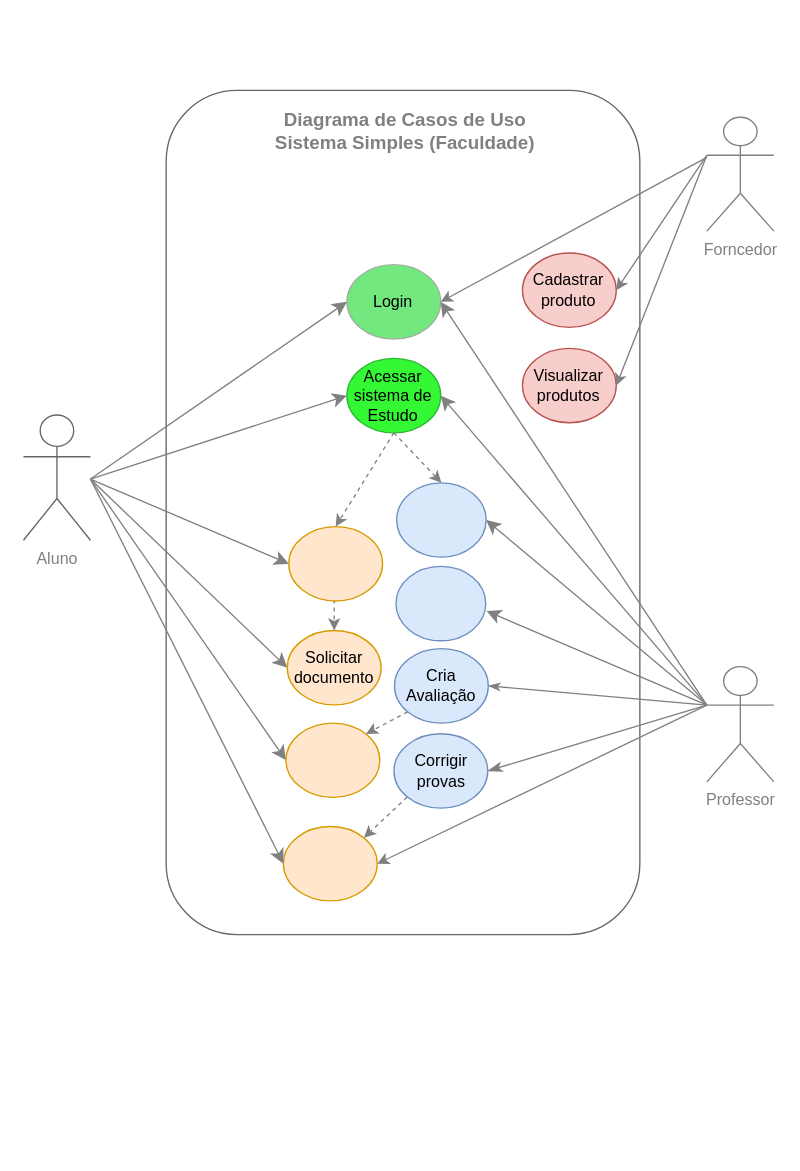
The diagram is 800 pixels wide and 1171 high, and some of its shapes have lost their labels. The shapes that lost their labels are listed below. From the top down, each one's centre as x and y in pixels, then its label:
At [440,519]: "Adicionar disciplina".
At [335,563]: "Realizar matricula".
At [440,603]: "Alterar disciplina".
At [332,759]: "Agendar Avaliação".
At [329,863]: "Consultar notas".
